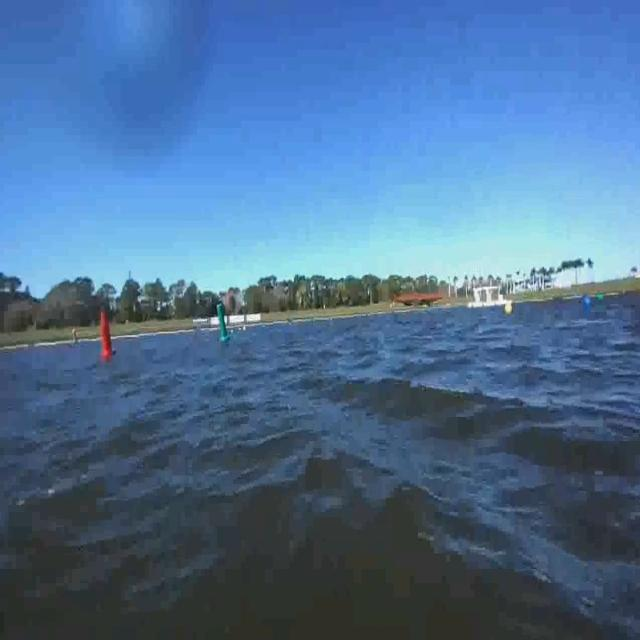green-column-buoy: (207, 301, 234, 345)
red-column-buoy: (94, 298, 118, 366)
